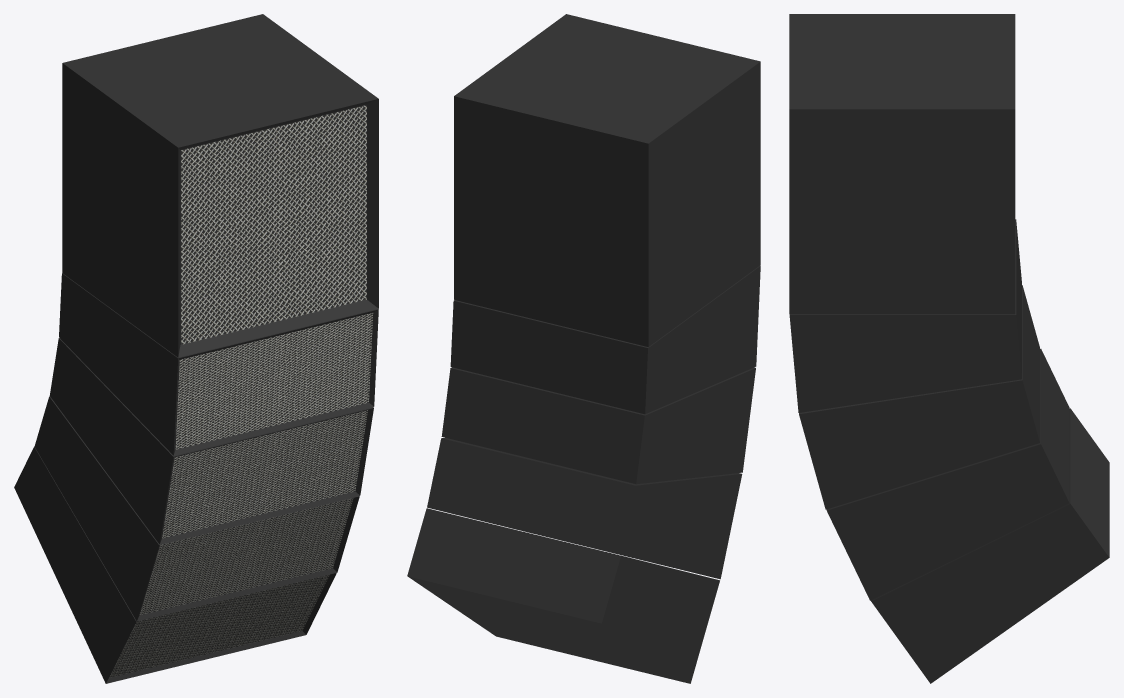
Rendered from low_poly_free_speakers_system_array.glb.
3 renders of one model, left to right at view 1: azimuth 30°, elevation 25°; view 2: azimuth 150°, elevation 25°; view 3: azimuth 270°, elevation 25°, orthographic. The views are drawn at different scales.
Visible parts, largest first — view 1: Cube.006; view 2: Cube.006; view 3: Cube.006.
Part boxes in pixels (left/top/right/bottom): Cube.006: left=14, top=14, right=378, bottom=683; Cube.006: left=407, top=14, right=760, bottom=683; Cube.006: left=789, top=14, right=1109, bottom=683.
Size of the model in its own units: 2 by 5.61 by 2.83.
2 materials, 1 textured.
